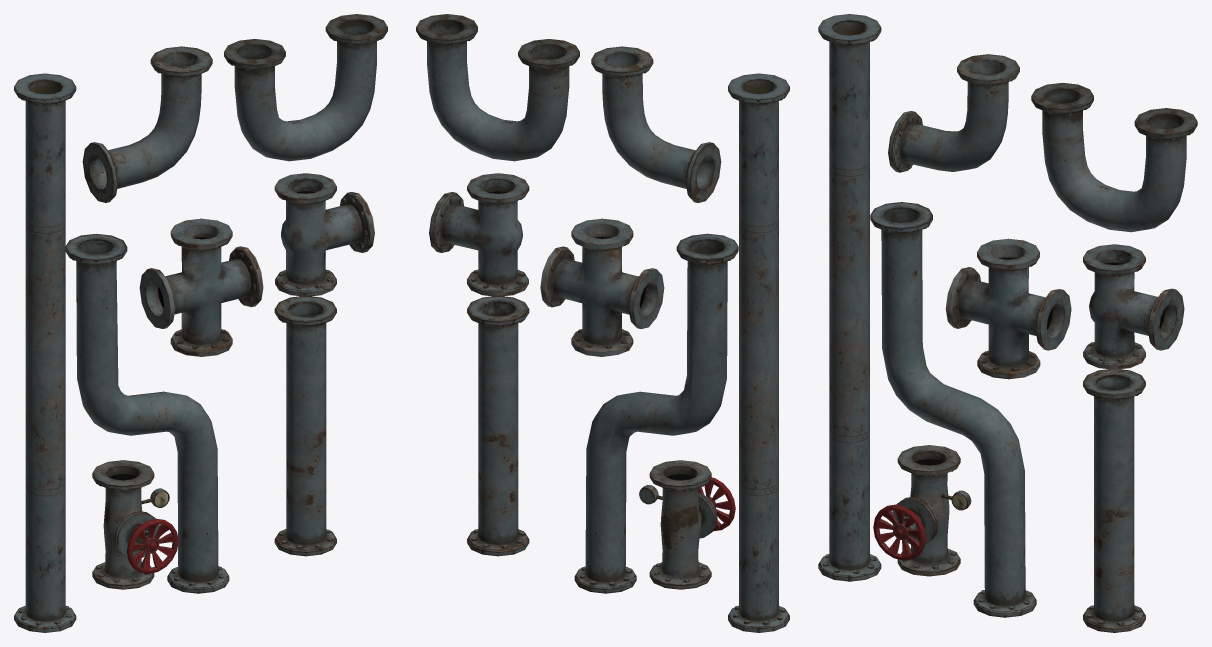
The model's file is modular_industrial_pipes_01.glb.
3 renders of one model, left to right at view 1: azimuth 30°, elevation 25°; view 2: azimuth 150°, elevation 25°; view 3: azimuth 330°, elevation 25°, orthographic.
Visible parts, largest first — view 1: modular_industrial_pipes_01_pipe02, modular_industrial_pipes_01_pipe03, modular_industrial_pipes_01_pipe05, modular_industrial_pipes_01_pipe01, modular_industrial_pipes_01_pipe07, modular_industrial_pipes_01_pipe04, modular_industrial_pipes_01_pipe06, modular_industrial_pipes_01_pipe08; view 2: modular_industrial_pipes_01_pipe02, modular_industrial_pipes_01_pipe03, modular_industrial_pipes_01_pipe05, modular_industrial_pipes_01_pipe01, modular_industrial_pipes_01_pipe07, modular_industrial_pipes_01_pipe04, modular_industrial_pipes_01_pipe06, modular_industrial_pipes_01_pipe08; view 3: modular_industrial_pipes_01_pipe02, modular_industrial_pipes_01_pipe03, modular_industrial_pipes_01_pipe05, modular_industrial_pipes_01_pipe01, modular_industrial_pipes_01_pipe07, modular_industrial_pipes_01_pipe06, modular_industrial_pipes_01_pipe04, modular_industrial_pipes_01_pipe08.
Part boxes in pixels (<box>): modular_industrial_pipes_01_pipe02: <box>14,73,76,632</box>; modular_industrial_pipes_01_pipe03: <box>65,233,229,593</box>; modular_industrial_pipes_01_pipe05: <box>224,14,387,161</box>; modular_industrial_pipes_01_pipe01: <box>274,296,336,556</box>; modular_industrial_pipes_01_pipe07: <box>139,218,263,356</box>; modular_industrial_pipes_01_pipe04: <box>82,46,212,202</box>; modular_industrial_pipes_01_pipe06: <box>274,173,374,296</box>; modular_industrial_pipes_01_pipe08: <box>92,460,178,589</box>; modular_industrial_pipes_01_pipe02: <box>728,73,789,632</box>; modular_industrial_pipes_01_pipe03: <box>574,233,738,593</box>; modular_industrial_pipes_01_pipe05: <box>416,14,579,161</box>; modular_industrial_pipes_01_pipe01: <box>467,296,529,556</box>; modular_industrial_pipes_01_pipe07: <box>540,218,664,356</box>; modular_industrial_pipes_01_pipe04: <box>591,46,721,202</box>; modular_industrial_pipes_01_pipe06: <box>429,173,529,296</box>; modular_industrial_pipes_01_pipe08: <box>639,460,735,589</box>; modular_industrial_pipes_01_pipe02: <box>818,14,881,581</box>; modular_industrial_pipes_01_pipe03: <box>870,202,1036,617</box>; modular_industrial_pipes_01_pipe05: <box>1031,82,1197,232</box>; modular_industrial_pipes_01_pipe01: <box>1083,369,1145,632</box>; modular_industrial_pipes_01_pipe07: <box>945,238,1071,379</box>; modular_industrial_pipes_01_pipe06: <box>1083,244,1184,369</box>; modular_industrial_pipes_01_pipe04: <box>888,54,1019,172</box>; modular_industrial_pipes_01_pipe08: <box>873,445,971,576</box>.
Size of the model in its own units: 1.4 by 1.95 by 0.3076.
Materials: 2 (2 with a texture image).
